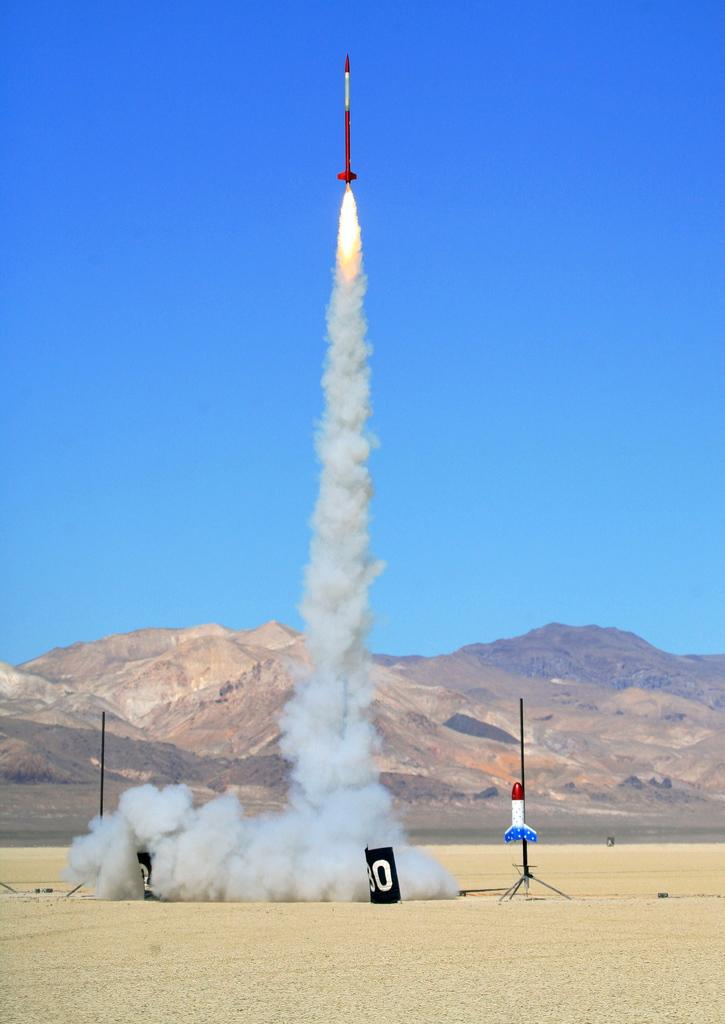Missile: (337, 51, 362, 173)
